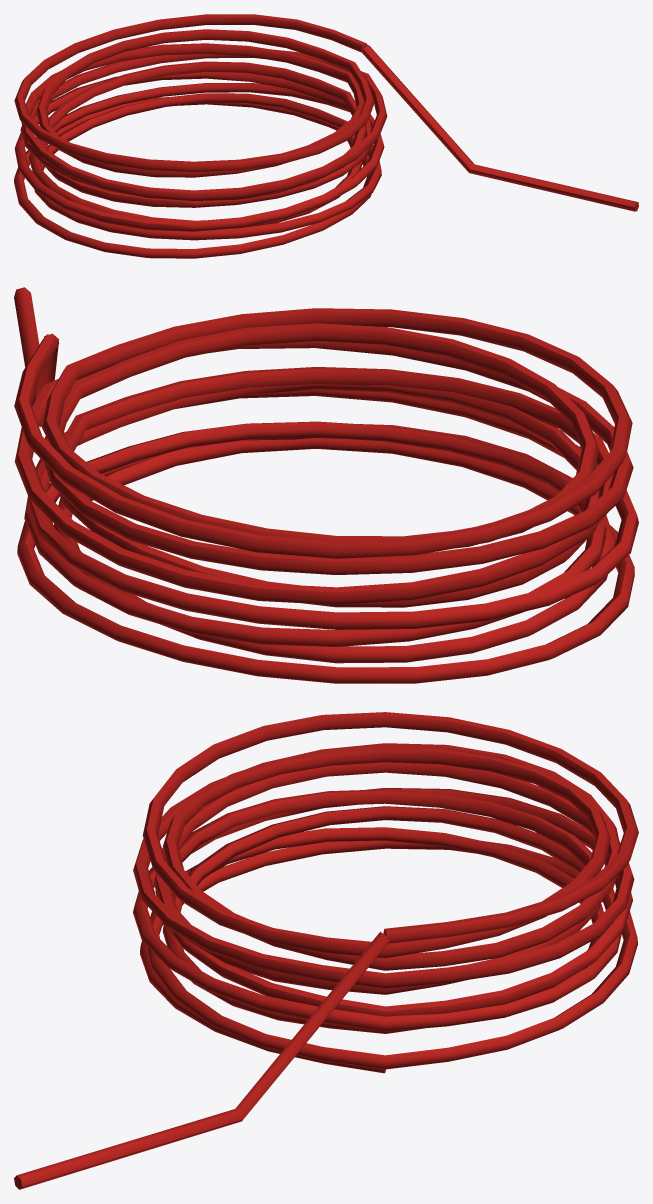
File: rope_coil.glb
3 views of the same model, one above another, from view 1: azimuth 30°, elevation 25°; view 2: azimuth 150°, elevation 25°; view 3: azimuth 270°, elevation 25° (orthographic). The views are drawn at different scales.
Parts seen in each view (by area): view 1: rope_coil; view 2: rope_coil; view 3: rope_coil.
Part boxes in pixels (x1,y1,x2,y2): rope_coil: [14, 14, 638, 258]; rope_coil: [14, 287, 638, 683]; rope_coil: [14, 712, 638, 1189].
Size of the model in its own units: 0.5406 by 0.1186 by 0.4254.
